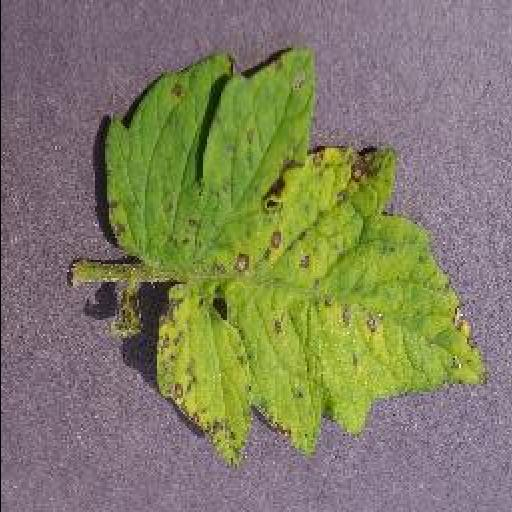disease_tomato: (102, 50, 486, 472)
